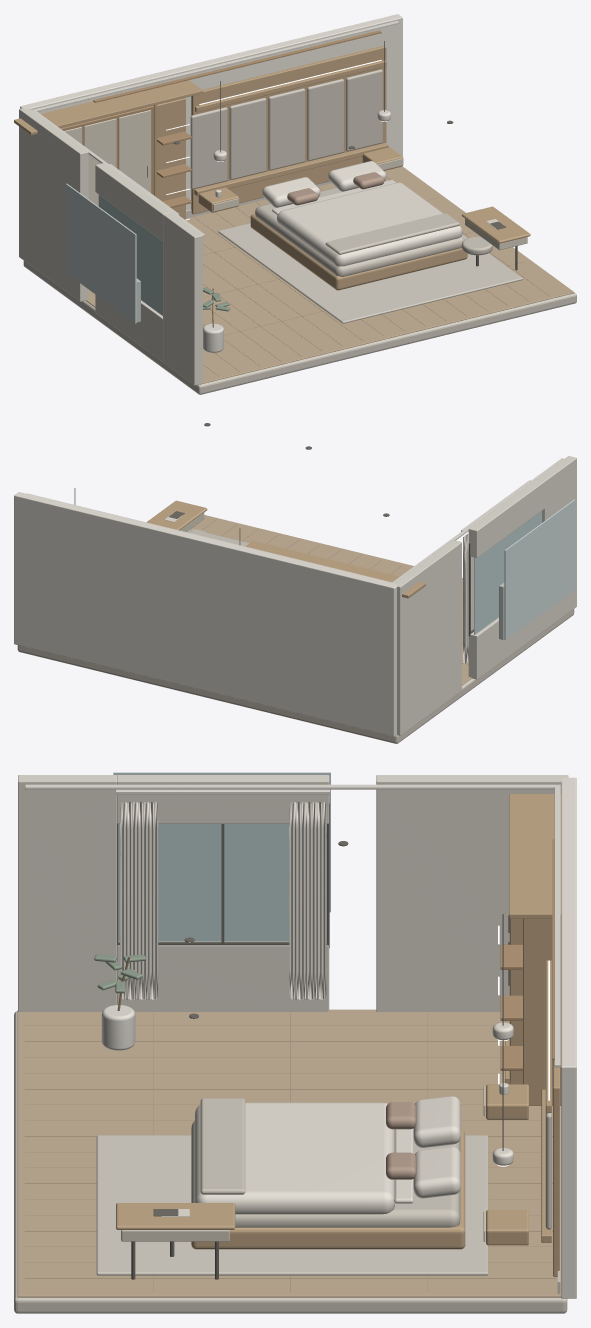
The model's file is win_space_02.glb.
3 views of the same model, one above another, from view 1: azimuth 30°, elevation 25°; view 2: azimuth 150°, elevation 25°; view 3: azimuth 270°, elevation 25° (orthographic). The views are drawn at different scales.
Parts seen in each view (by area): view 1: ARCH_Bedroom oak floating floor, SOFT_Full bedroom wool rug, ARCH_Bedroom back wall, ARCH_Bedroom left rear pier, SOFT_Bed voluminous woven duvet, EXT_Soft sky outside bedroom, JOINERY_Headboard recessed oak backing, ARCH_Bedroom left front pier, ARCH_Bedroom structural floor, FURN_Bed low solid oak plinth, JOINERY_Wardrobe crown, JOINERY_Headboard upholstered vertical bay 3 (+24 smaller); view 2: ARCH_Bedroom back wall, ARCH_Bedroom left rear pier, EXT_Soft sky outside bedroom, ARCH_Bedroom structural floor, ARCH_Bedroom oak floating floor, ARCH_Bedroom window head, ARCH_Bedroom glazing, ARCH_Bedroom left front pier, ARCH_Bedroom window sill wall, JOINERY_Wardrobe crown, SOFT_Right linen bedroom curtain, JOINERY_Vanity oak top (+2 smaller); view 3: ARCH_Bedroom oak floating floor, ARCH_Bedroom left rear pier, ARCH_Bedroom left front pier, SOFT_Full bedroom wool rug, SOFT_Bed voluminous woven duvet, ARCH_Bedroom glazing, ARCH_Bedroom structural floor, ARCH_Bedroom window sill wall, ARCH_Bedroom back wall, SOFT_Right linen bedroom curtain, SOFT_Left linen bedroom curtain, ARCH_Bedroom window head (+24 smaller).
Boxes of the visible parts, box(x1,y1,x2,y2) form: ARCH_Bedroom oak floating floor: box(85, 166, 574, 384); SOFT_Full bedroom wool rug: box(218, 223, 522, 323); ARCH_Bedroom back wall: box(20, 14, 402, 210); ARCH_Bedroom left rear pier: box(19, 108, 88, 301); SOFT_Bed voluminous woven duvet: box(277, 182, 462, 266); EXT_Soft sky outside bedroom: box(66, 183, 136, 323); JOINERY_Headboard recessed oak backing: box(191, 45, 386, 214); ARCH_Bedroom left front pier: box(163, 212, 202, 385); ARCH_Bedroom structural floor: box(23, 261, 576, 394); FURN_Bed low solid oak plinth: box(250, 213, 467, 290); JOINERY_Wardrobe crown: box(14, 80, 203, 135); JOINERY_Headboard upholstered vertical bay 3: box(268, 88, 305, 170); ARCH_Bedroom back wall: box(14, 492, 397, 736); ARCH_Bedroom left rear pier: box(393, 540, 461, 735); EXT_Soft sky outside bedroom: box(504, 499, 575, 639); ARCH_Bedroom structural floor: box(17, 609, 574, 743); ARCH_Bedroom oak floating floor: box(191, 515, 471, 685); ARCH_Bedroom window head: box(468, 479, 545, 557); ARCH_Bedroom glazing: box(474, 511, 541, 634); ARCH_Bedroom left front pier: box(537, 456, 576, 629); ARCH_Bedroom window sill wall: box(468, 611, 545, 679); JOINERY_Wardrobe crown: box(245, 541, 425, 598); SOFT_Right linen bedroom curtain: box(463, 533, 473, 663); JOINERY_Vanity oak top: box(146, 500, 207, 530); ARCH_Bedroom oak floating floor: box(17, 1009, 561, 1297); ARCH_Bedroom left rear pier: box(376, 775, 568, 1011); ARCH_Bedroom left front pier: box(18, 775, 116, 1011); SOFT_Full bedroom wool rug: box(96, 1135, 488, 1275); SOFT_Bed voluminous woven duvet: box(195, 1102, 395, 1214); ARCH_Bedroom glazing: box(118, 824, 326, 941); ARCH_Bedroom structural floor: box(14, 1011, 567, 1313); ARCH_Bedroom window sill wall: box(117, 941, 329, 1011); ARCH_Bedroom back wall: box(561, 777, 576, 1298); SOFT_Right linen bedroom curtain: box(289, 801, 326, 1000); SOFT_Left linen bedroom curtain: box(120, 801, 158, 1000); ARCH_Bedroom window head: box(117, 775, 329, 823).
Bounding box in the file's own units: 8.46 × 3.12 × 6.41.
